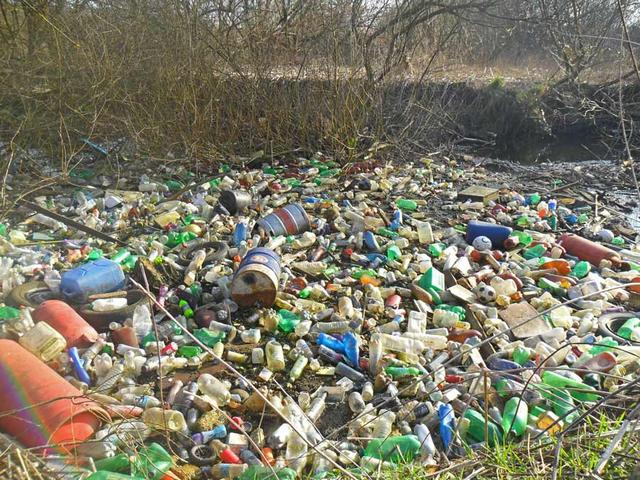garbage: (98, 187, 607, 452)
